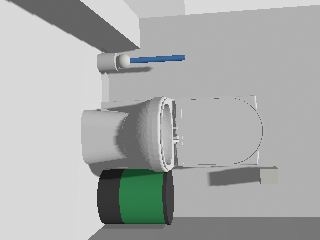lid_1: (176, 96, 264, 167)
